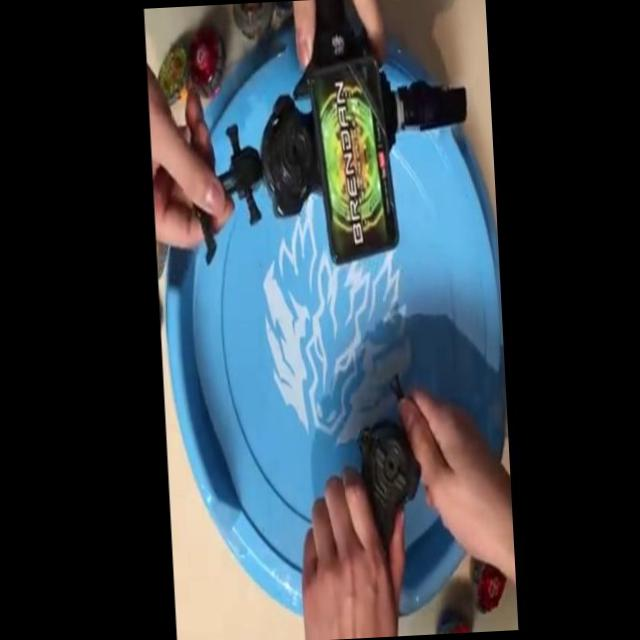Beyblade: (184, 27, 229, 100), (470, 552, 510, 614), (155, 42, 188, 106)
